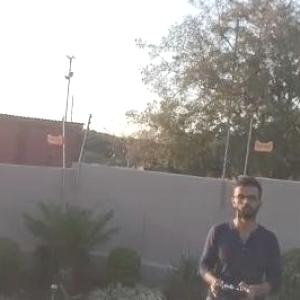follow: (195, 169, 288, 299)
